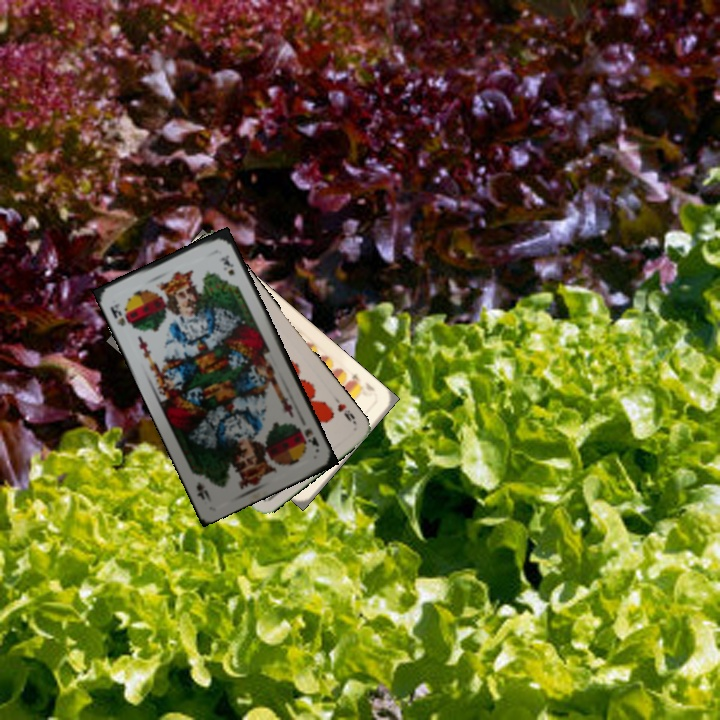E10: (344, 369, 378, 394)
H9: (329, 392, 359, 427)
SK: (106, 299, 128, 329), (300, 424, 322, 450)
